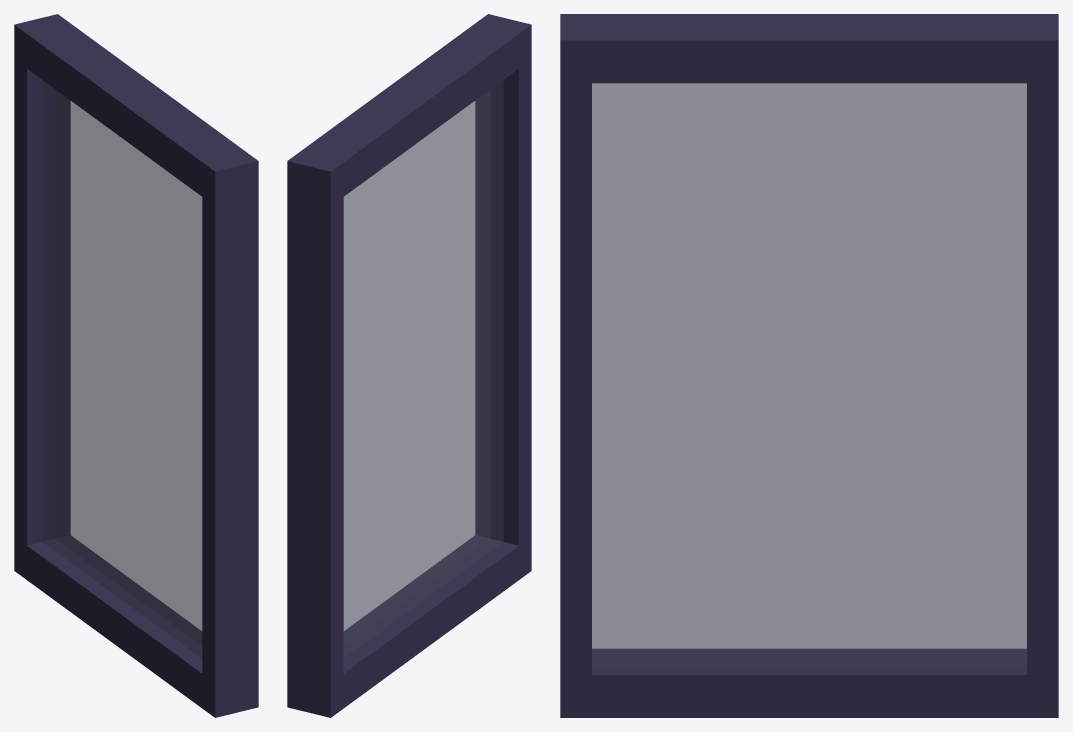
File: Glass_Wall_Vertical_2M.fbx
3 views of the same model, side by side, from view 1: azimuth 30°, elevation 25°; view 2: azimuth 150°, elevation 25°; view 3: azimuth 270°, elevation 25° (orthographic). The views are drawn at different scales.
Parts seen in each view (by area): view 1: Glass_Wall_Verticle_2M; view 2: Glass_Wall_Verticle_2M; view 3: Glass_Wall_Verticle_2M.
Part boxes in pixels (<box>): Glass_Wall_Verticle_2M: <box>14,14,258,717</box>; Glass_Wall_Verticle_2M: <box>287,14,531,717</box>; Glass_Wall_Verticle_2M: <box>560,14,1058,717</box>.
Size of the model in its own units: 0.25 by 3 by 2.
